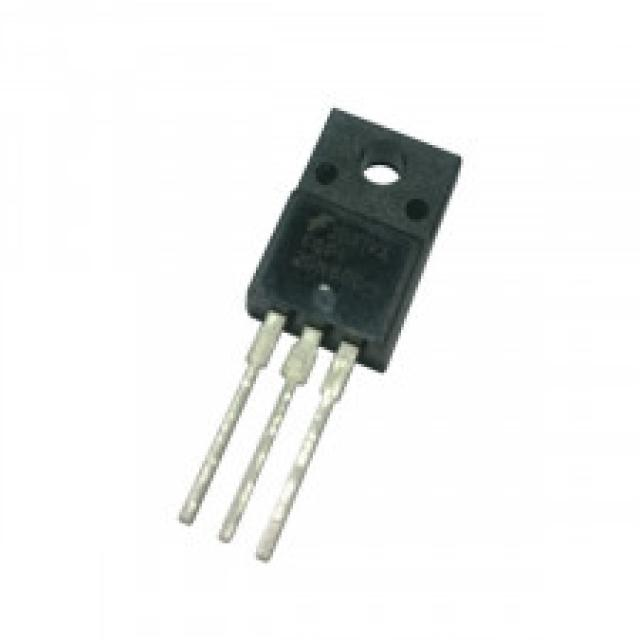Transistor: (176, 106, 461, 564)
